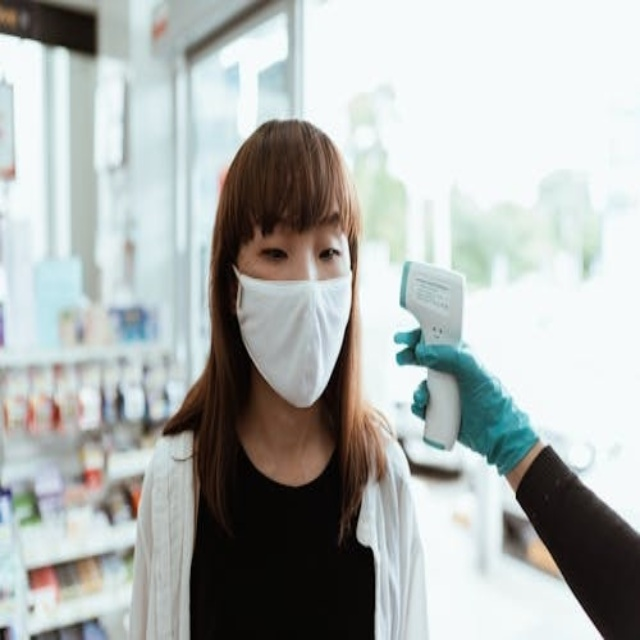Guantes: (399, 333, 540, 475)
Mascara: (231, 240, 354, 409)
Sin_gafas: (244, 233, 346, 277)
